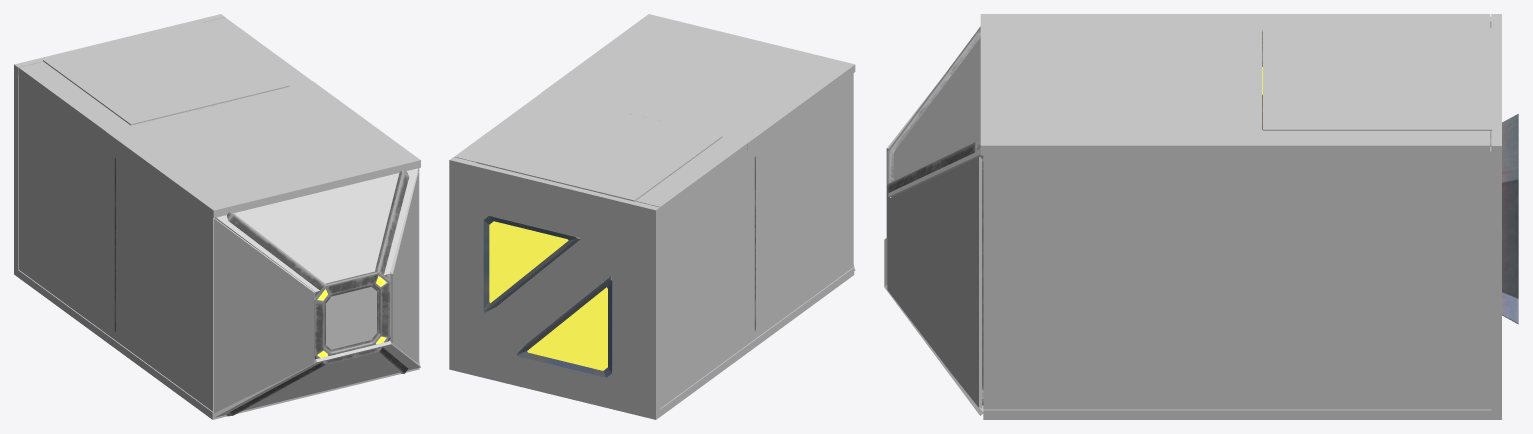
Rendered from ship_col_old.glb.
The picture shows the model from 3 angles, left to right: view 1: azimuth 30°, elevation 25°; view 2: azimuth 150°, elevation 25°; view 3: azimuth 270°, elevation 25°; orthographic projection. The views are drawn at different scales.
Visible parts, largest first — view 1: COL_rightwall, COL_roof.003, COL_door, COL_frontleft, COL_fronttop, Circle, COL_frontbottom, COL_frontright, COL_roof.002, COL_front, COL_floor, COL_roof.001 (+2 smaller); view 2: COL_rightwall, COL_back, COL_roof.003, COL_door, Circle, COL_roof.002, COL_roof.001, COL_floor, COL_frontleft; view 3: COL_leftwall, COL_roof.003, COL_door, COL_frontright, COL_fronttop, Circle, COL_roof.001, COL_floor, COL_back, COL_roof.002, COL_frontbottom.
Boxes of the visible parts, box(x1,y1,x2,y2) form: COL_rightwall: box(19, 75, 213, 411); COL_roof.003: box(106, 81, 420, 217); COL_door: box(43, 21, 289, 125); COL_frontleft: box(214, 218, 314, 413); COL_fronttop: box(215, 168, 417, 292); Circle: box(114, 157, 409, 416); COL_frontbottom: box(213, 341, 420, 417); COL_frontright: box(390, 171, 418, 363); COL_roof.002: box(18, 61, 133, 138); COL_front: box(315, 272, 393, 349); COL_floor: box(17, 270, 419, 419); COL_roof.001: box(204, 17, 322, 94); COL_rightwall: box(660, 74, 852, 408); COL_back: box(449, 157, 660, 419); COL_roof.003: box(541, 14, 855, 150); COL_door: box(476, 97, 722, 201); Circle: box(483, 156, 755, 377); COL_roof.002: box(636, 130, 757, 213); COL_roof.001: box(454, 85, 575, 162); COL_floor: box(659, 267, 854, 416); COL_frontleft: box(852, 73, 853, 266); COL_leftwall: box(983, 146, 1491, 409); COL_roof.003: box(980, 14, 1262, 155); COL_door: box(1263, 28, 1492, 138); COL_frontright: box(887, 156, 982, 408); COL_fronttop: box(888, 26, 983, 197); Circle: box(887, 26, 1518, 405); COL_roof.001: box(1235, 130, 1490, 155); COL_floor: box(983, 409, 1494, 419); COL_back: box(1491, 14, 1501, 419); COL_roof.002: box(1235, 14, 1490, 31); COL_frontbottom: box(884, 237, 983, 415).
Size of the model in its own units: 37.42 by 36.97 by 76.13.
7 materials, 6 textured.
